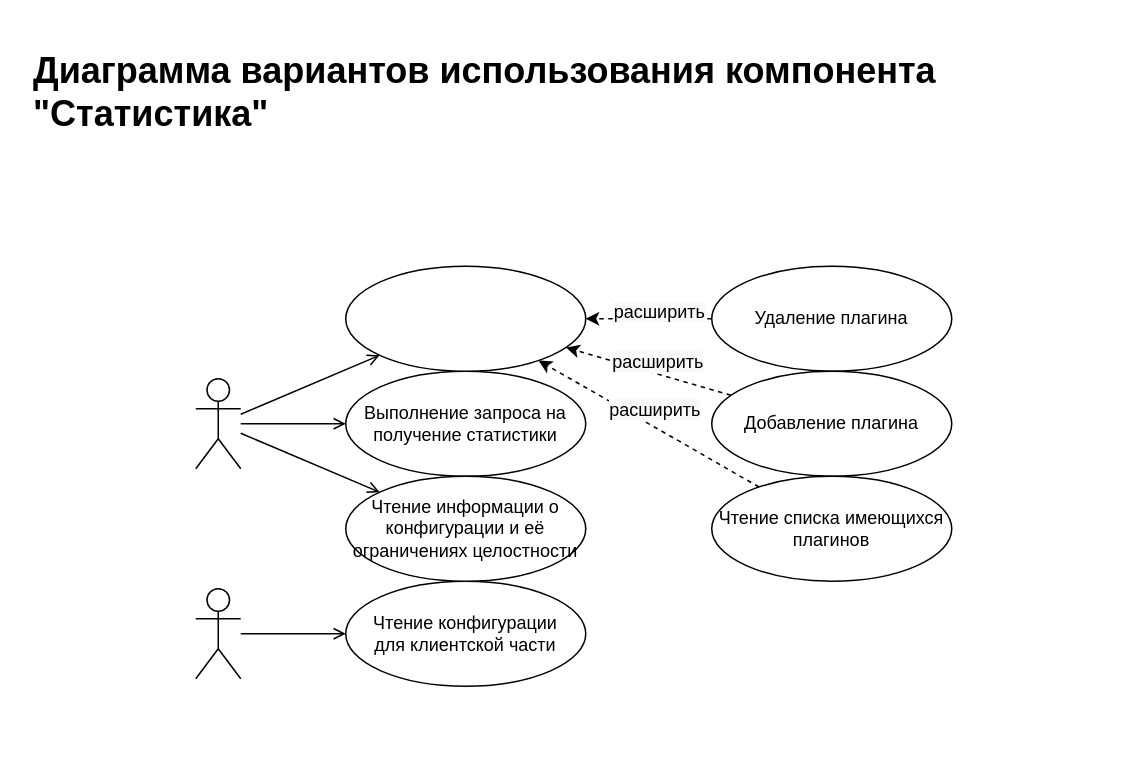
Some shapes in this 1146 by 758 pixel diagram are drawn without their labels. Here are the shapes that lost their labels. From the top down, the centre of each, then its label:
At [465,318]: "Работа с набором плагинов".
At [217,423]: "Внешний объект экосистемы 1-го ур.".
At [217,633]: "Клиентская часть компонента статистики".
